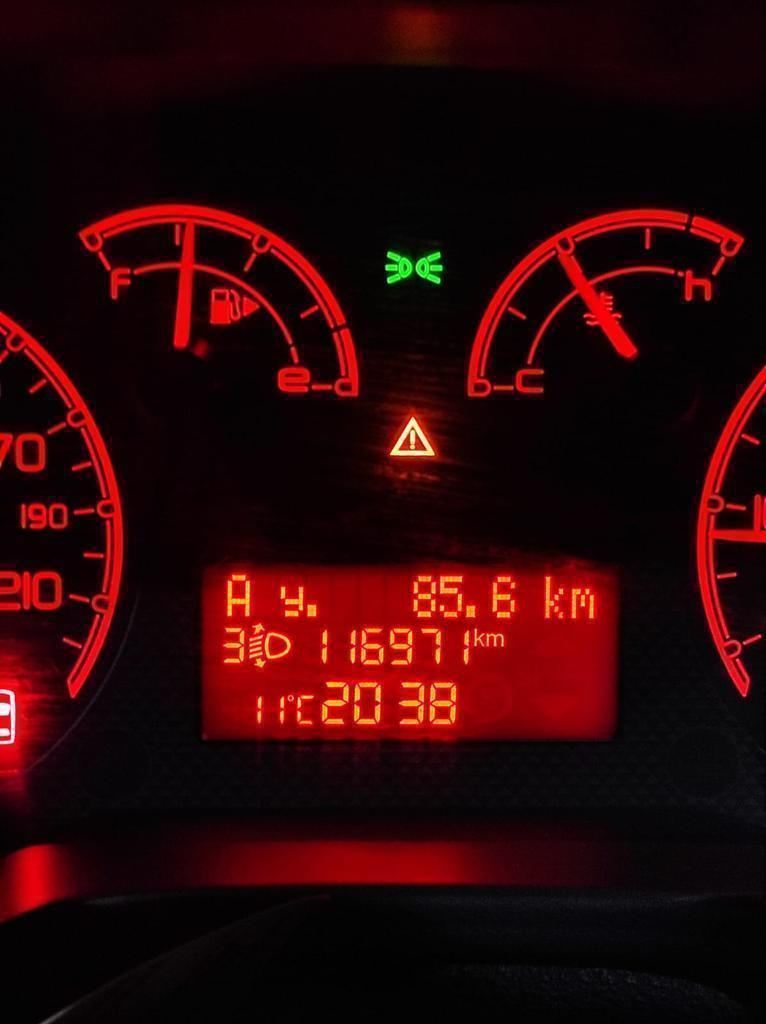,: (304, 602, 319, 620), (465, 602, 478, 621)
0: (351, 680, 383, 726)
1: (315, 624, 334, 666), (457, 627, 472, 668), (249, 692, 267, 725), (345, 626, 358, 666), (274, 693, 285, 726)
2: (318, 678, 348, 727)
3: (394, 679, 424, 727), (219, 623, 247, 667)
5: (438, 573, 465, 620)
6: (490, 573, 519, 622), (359, 624, 385, 666)
7: (417, 624, 445, 665)
8: (427, 680, 460, 727), (410, 573, 437, 620)
9: (387, 625, 414, 667)
X: (224, 573, 253, 618), (540, 572, 566, 621), (568, 586, 600, 621), (275, 583, 304, 618), (296, 693, 315, 727), (485, 632, 505, 647), (472, 625, 484, 647)
odometer: (192, 555, 629, 749)
